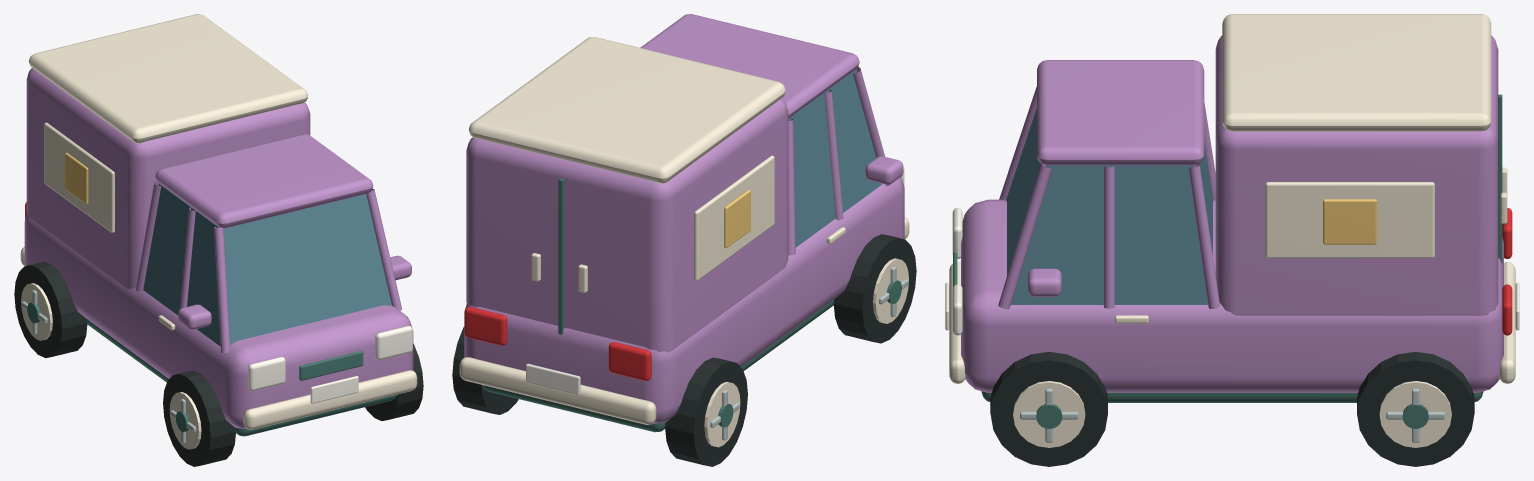
The model's file is car-van.glb.
3 renders of one model, left to right at view 1: azimuth 30°, elevation 25°; view 2: azimuth 150°, elevation 25°; view 3: azimuth 270°, elevation 25°, orthographic. The views are drawn at different scales.
Parts seen in each view (by area): view 1: lower body, bumper.004, cabin glazing, rubber tyre.013, rubber tyre.012, headlight.003, front grille.003, rubber tyre.014, wheel rim.012, wheel rim.013, parcel; view 2: lower body, bumper.004, cabin glazing, rubber tyre.012, rubber tyre.013, front grille.003, tail light.003, rubber tyre.015, wheel rim.012, wheel rim.013, parcel, headlight.003; view 3: lower body, bumper.004, cabin glazing, rubber tyre.014, rubber tyre.015, front grille.003, wheel rim.014, wheel rim.015, parcel, headlight.003, tail light.003.
Part boxes in pixels (x1,y1,x2,y2): lower body: (24,68,413,428); bumper.004: (20,14,417,429); cabin glazing: (143,183,391,346); rubber tyre.013: (14,261,87,358); rubber tyre.012: (163,370,235,466); headlight.003: (248,326,412,403); front grille.003: (87,319,397,436); rubber tyre.014: (365,343,423,420); wheel rim.012: (169,392,201,449); wheel rim.013: (21,283,52,340); parcel: (65,152,88,204); lower body: (464,14,904,423); bumper.004: (459,37,909,424); cabin glazing: (788,70,882,247); rubber tyre.012: (833,234,916,343); rubber tyre.013: (665,357,747,466); front grille.003: (482,178,833,432); tail light.003: (464,307,651,380); rubber tyre.015: (452,326,518,414); wheel rim.012: (873,258,908,323); wheel rim.013: (704,381,740,447); parcel: (724,189,750,248); headlight.003: (526,167,904,395); lower body: (961,35,1503,392); bumper.004: (949,14,1515,383); cabin glazing: (1006,108,1213,304); rubber tyre.014: (990,351,1107,466); rubber tyre.015: (1357,351,1474,466); front grille.003: (953,94,1502,402); wheel rim.014: (1013,381,1085,447); wheel rim.015: (1379,381,1451,447); parcel: (1323,199,1377,244); headlight.003: (945,208,1519,335); tail light.003: (1502,208,1512,335).
Size of the model in its own units: 1.41 by 1.65 by 2.54.
